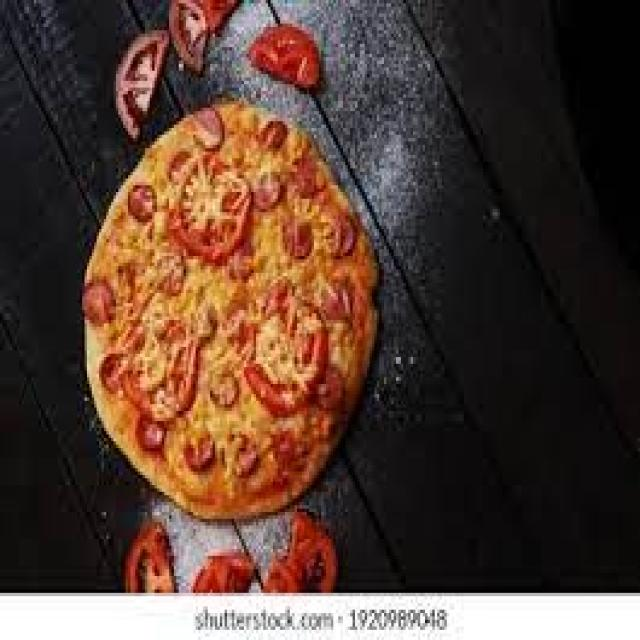피자: (80, 98, 382, 525)
